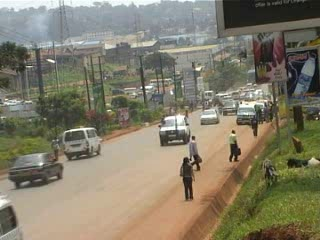Car: (7, 149, 64, 187), (157, 113, 192, 145), (199, 107, 221, 125), (222, 98, 238, 115)
Motorcycle: (216, 99, 224, 116)
